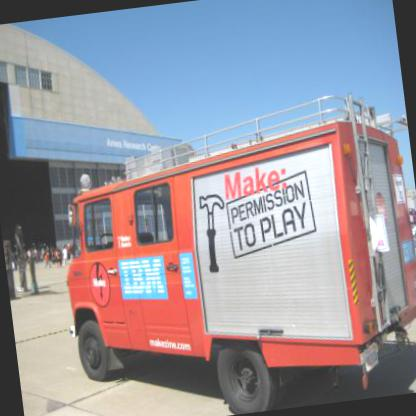truck: (50, 69, 415, 415)
